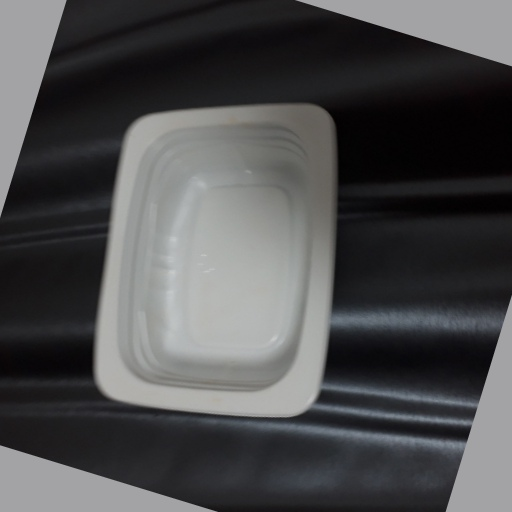Plastic_4: (87, 101, 339, 421)
